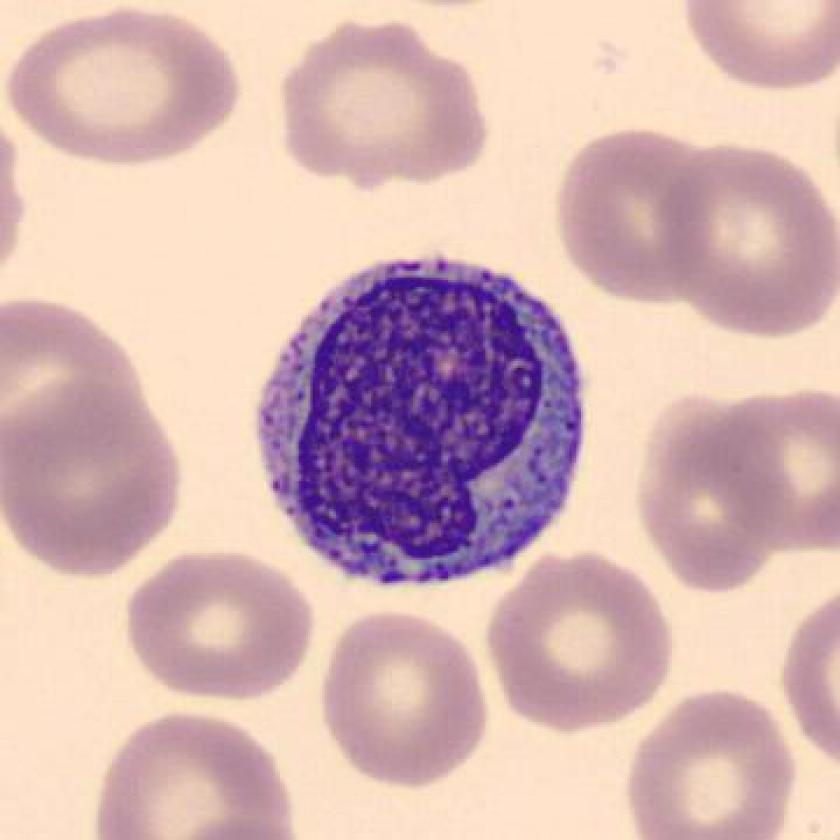monocyte: (241, 239, 603, 612)
